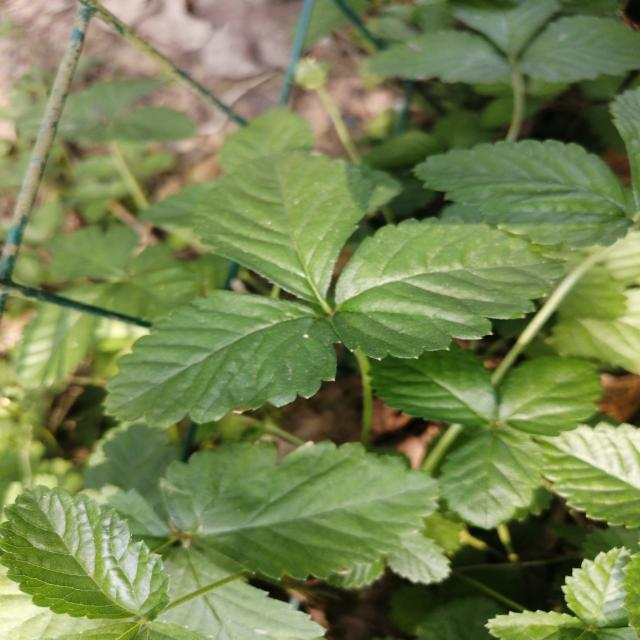Mock_strawberry: (61, 152, 551, 423)
